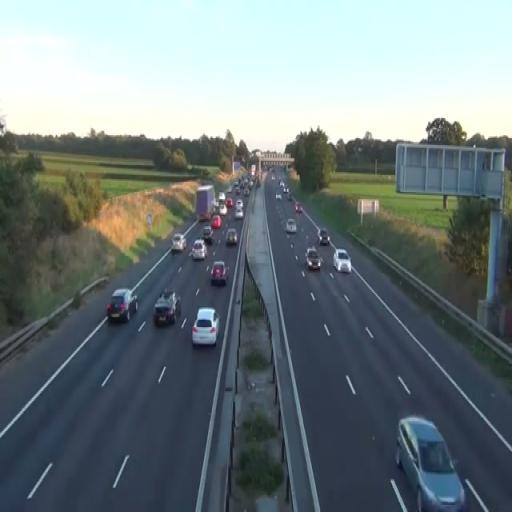Car: (395, 416, 466, 511), (192, 306, 220, 348), (106, 287, 138, 323), (154, 288, 182, 326), (210, 260, 229, 286), (332, 249, 352, 273), (304, 247, 322, 271), (190, 238, 208, 261), (171, 234, 187, 252), (316, 228, 330, 246), (226, 228, 238, 247), (203, 225, 214, 244)
Truck: (195, 185, 215, 222)
